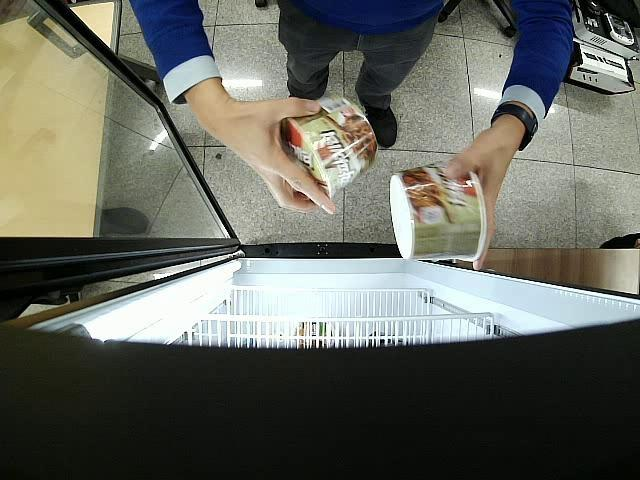03_chapagetti_L: (281, 96, 377, 202), (389, 160, 486, 262)
